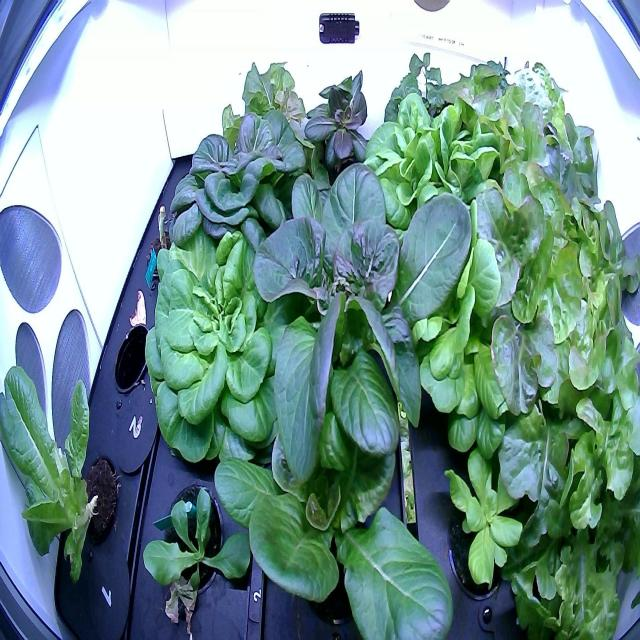Ready: (247, 148, 484, 494), (138, 195, 333, 488), (348, 79, 520, 294), (160, 91, 316, 291)
empty_pod: (106, 307, 160, 401)
young: (201, 336, 463, 638), (1, 359, 126, 588), (130, 464, 263, 636), (436, 433, 542, 606), (299, 62, 385, 188)
